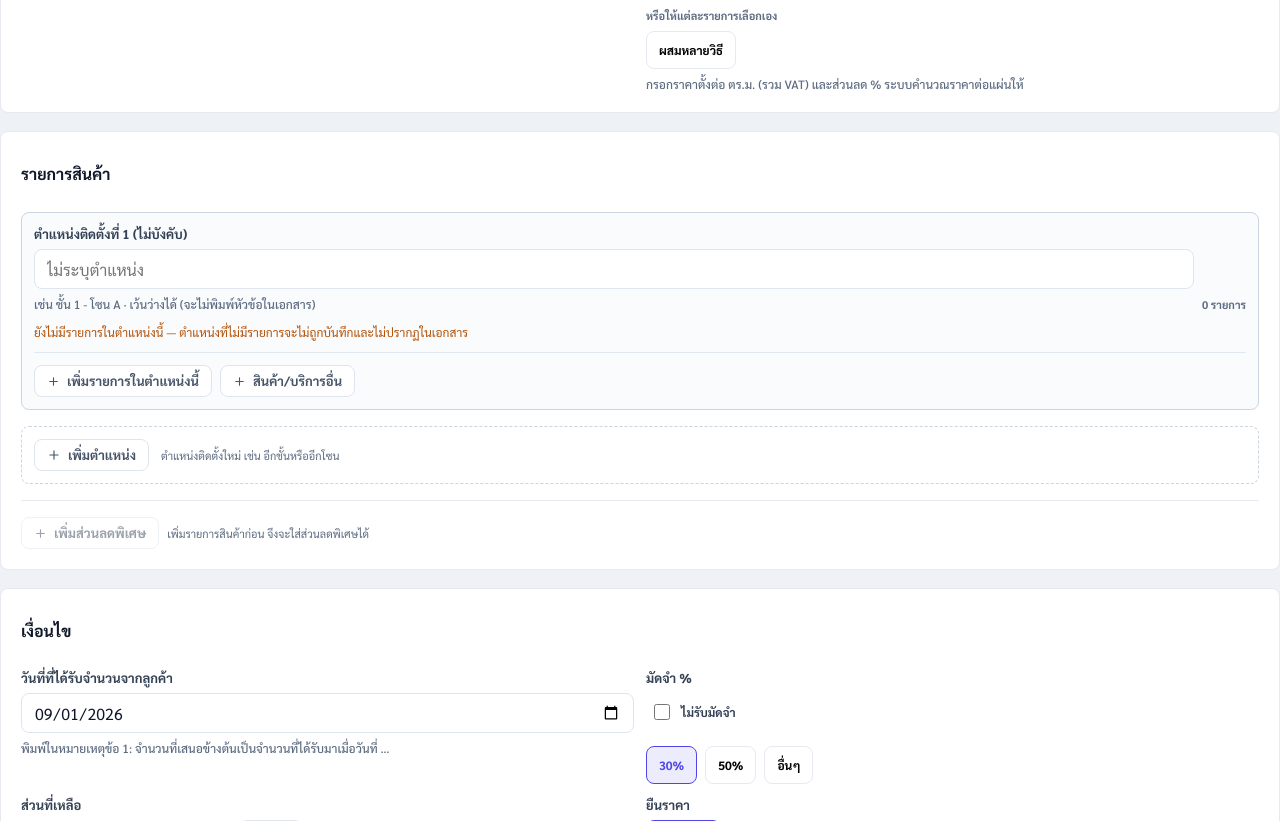
Test case: QuotationEditorPage item calc wiring › shows "ยังไม่บันทึก" instead of a stale total once the form is dirty
The width and height of the screenshot is (1280, 821).
(page scrolled)
Step 1. Click the button "เพิ่มรายการในตำแหน่งนี้" → point(123, 381), box [34,365,212,397]
(page scrolled)
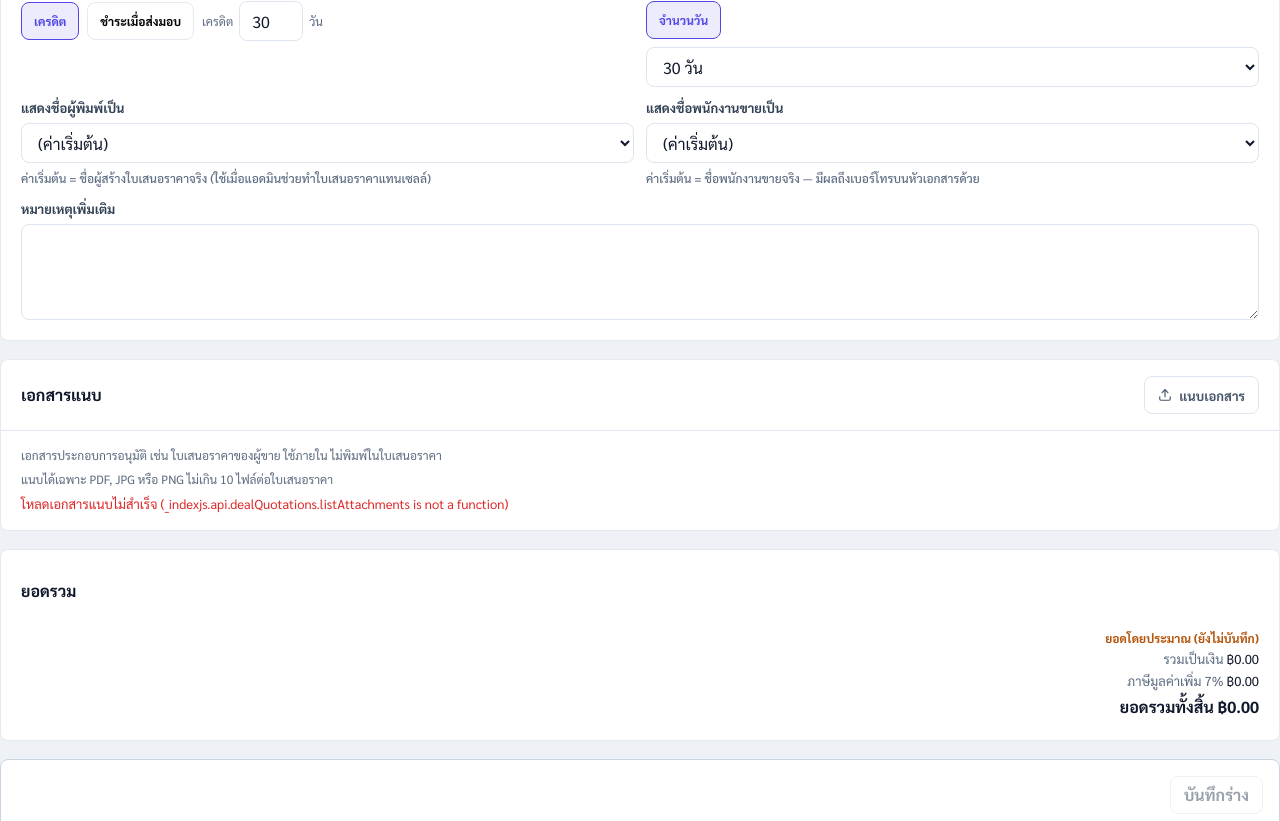
Expected: the text "ยอดโดยประมาณ (ยังไม่บันทึก)" is shown, [1105,630,1259,646]
